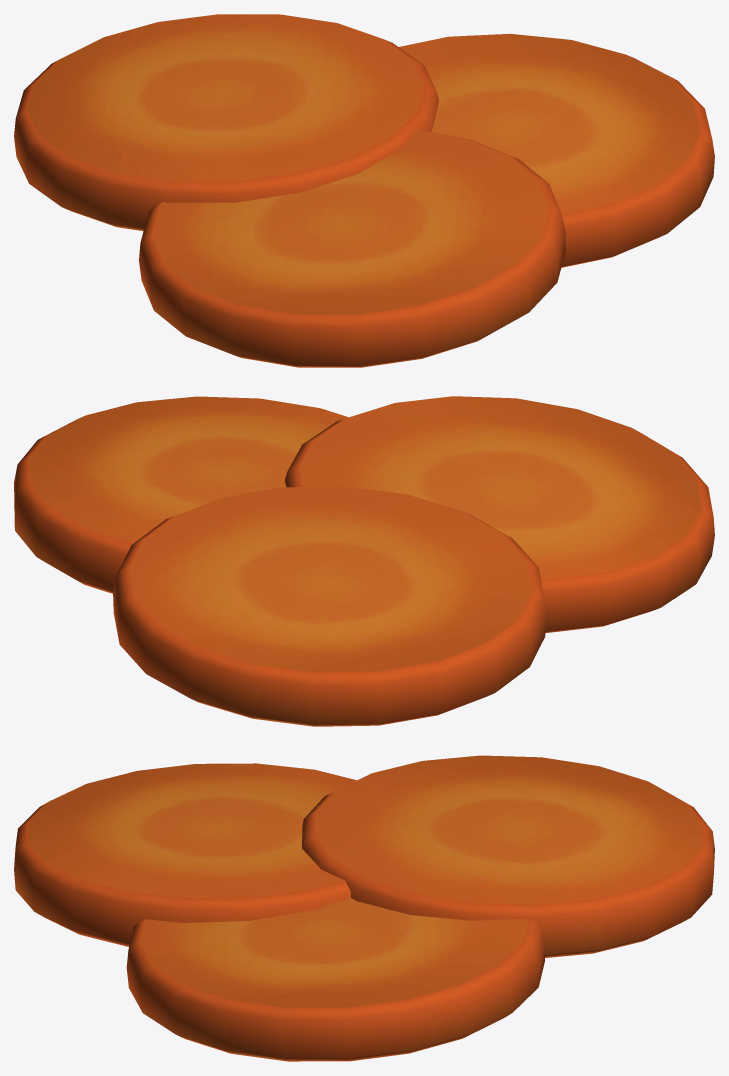
The model's file is Web_Soup_Carrot.obj.
3 renders of one model, top to bottom at view 1: azimuth 30°, elevation 25°; view 2: azimuth 150°, elevation 25°; view 3: azimuth 270°, elevation 25°, orthographic. The views are drawn at different scales.
Visible parts, largest first — view 1: m_ingredients_tomato_salad_01.002, m_ingredients_tomato_salad_01.007, m_ingredients_tomato_salad_01.001; view 2: m_ingredients_tomato_salad_01.007, m_ingredients_tomato_salad_01.002, m_ingredients_tomato_salad_01.001; view 3: m_ingredients_tomato_salad_01.007, m_ingredients_tomato_salad_01.001, m_ingredients_tomato_salad_01.002.
Part boxes in pixels (<box>): m_ingredients_tomato_salad_01.002: <box>139,130,565,367</box>; m_ingredients_tomato_salad_01.007: <box>14,14,438,231</box>; m_ingredients_tomato_salad_01.001: <box>399,33,714,267</box>; m_ingredients_tomato_salad_01.007: <box>113,486,546,726</box>; m_ingredients_tomato_salad_01.002: <box>285,396,714,633</box>; m_ingredients_tomato_salad_01.001: <box>14,396,348,593</box>; m_ingredients_tomato_salad_01.007: <box>302,755,714,957</box>; m_ingredients_tomato_salad_01.001: <box>126,898,544,1061</box>; m_ingredients_tomato_salad_01.002: <box>14,763,356,946</box>.
Size of what is drawn, in the model's own units: 0.2701 by 0.04 by 0.2906.
1 material, 1 textured.
